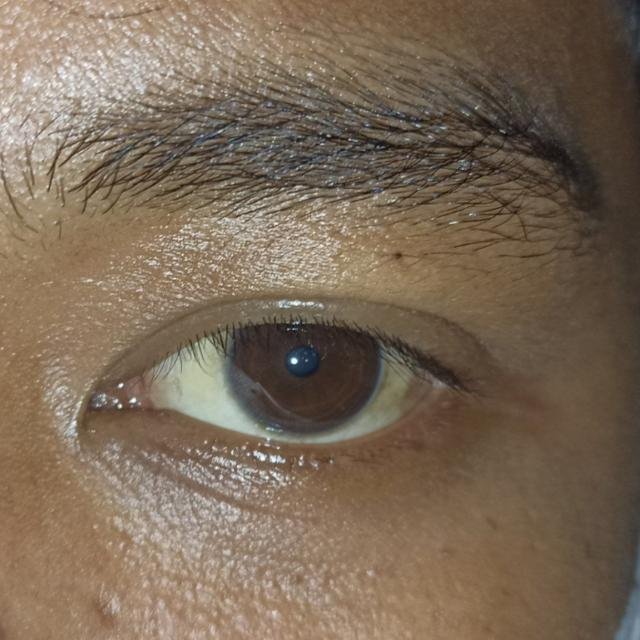Normal: (226, 302, 381, 438)
